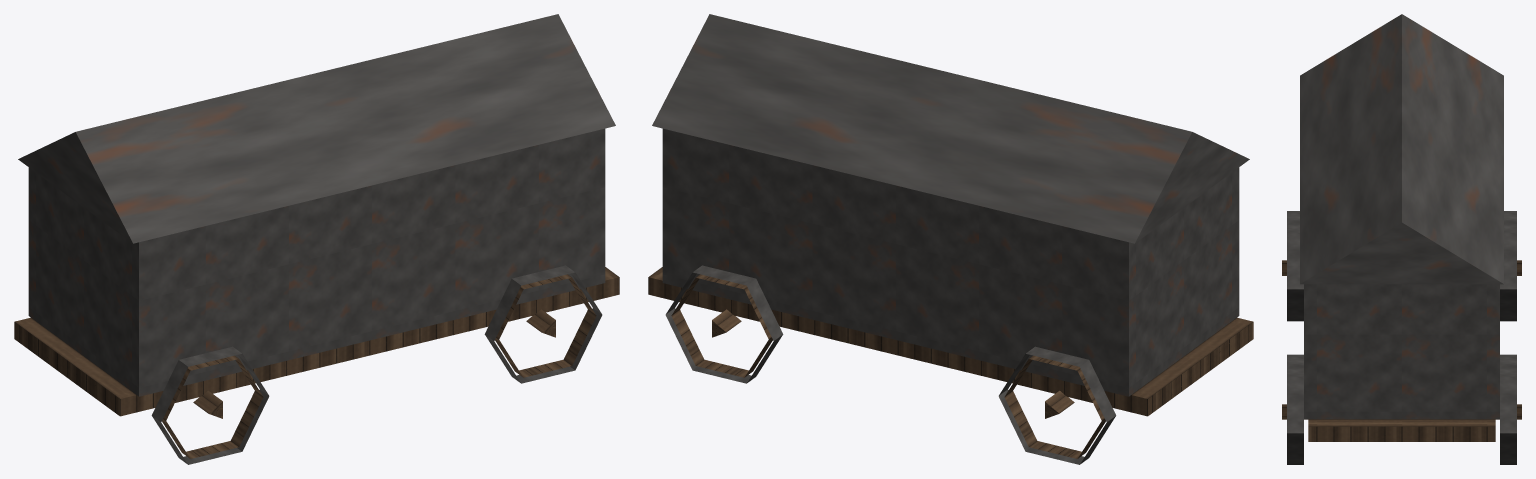
File: Wagon_Armored_1_LOD2.gltf
3 renders of one model, left to right at view 1: azimuth 30°, elevation 25°; view 2: azimuth 150°, elevation 25°; view 3: azimuth 270°, elevation 25°, orthographic. The views are drawn at different scales.
Visible parts, largest first — view 1: Wagon_Armored_1_LOD2; view 2: Wagon_Armored_1_LOD2; view 3: Wagon_Armored_1_LOD2.
Part boxes in pixels (x1,y1,x2,y2): Wagon_Armored_1_LOD2: (14, 14, 619, 464); Wagon_Armored_1_LOD2: (648, 14, 1253, 464); Wagon_Armored_1_LOD2: (1282, 14, 1521, 464).
Bounding box in the file's own units: 6 × 3.41 × 2.82.
Materials: 2 (2 with a texture image).
